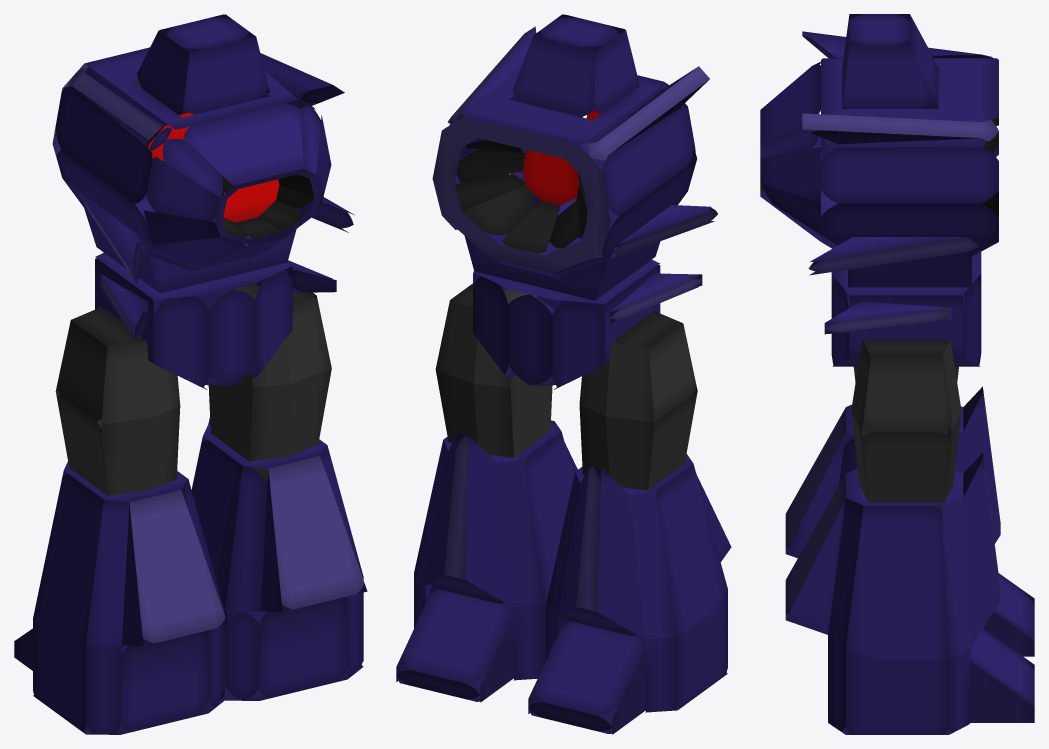
The model's file is TurboBody.obj.
The picture shows the model from 3 angles, left to right: view 1: azimuth 30°, elevation 25°; view 2: azimuth 150°, elevation 25°; view 3: azimuth 270°, elevation 25°; orthographic projection. The views are drawn at different scales.
Parts seen in each view (by area): view 1: Shin, cylinder, Thigh, Pelvis, Toe; view 2: Shin, cylinder, Thigh, Toe, Pelvis; view 3: cylinder, Shin, Thigh, Pelvis, Toe.
Boxes of the visible parts, <box> form: Shin: <box>33,417,367,734</box>; cylinder: <box>52,14,354,293</box>; Thigh: <box>55,284,331,504</box>; Pelvis: <box>95,253,336,389</box>; Toe: <box>14,611,229,670</box>; Shin: <box>414,420,731,712</box>; cylinder: <box>432,14,717,300</box>; Thigh: <box>435,283,697,496</box>; Toe: <box>396,586,645,734</box>; Pelvis: <box>473,259,702,389</box>; cylinder: <box>760,14,998,287</box>; Shin: <box>785,386,1000,734</box>; Thigh: <box>851,308,961,511</box>; Pelvis: <box>824,252,981,366</box>; Toe: <box>970,573,1034,722</box>.
Bounding box in the file's own units: 0.55 × 1.24 × 0.4812.
Materials: 1 (1 with a texture image).
